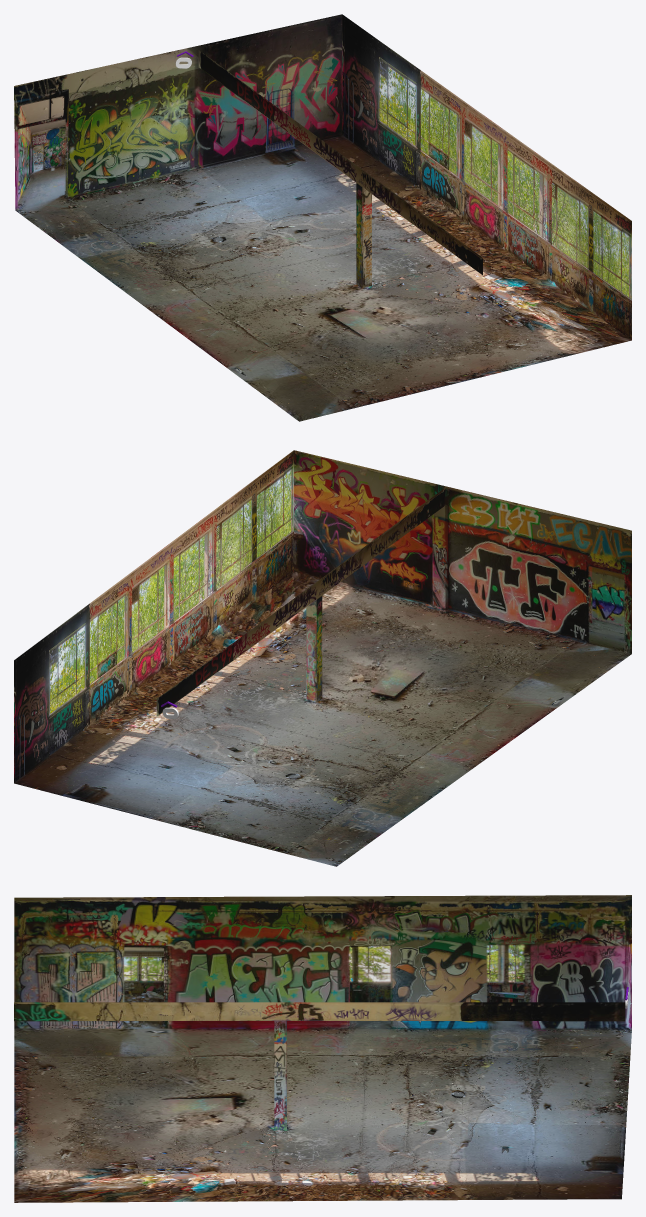
Rendered from Abandoned.glb.
3 renders of one model, top to bottom at view 1: azimuth 30°, elevation 25°; view 2: azimuth 150°, elevation 25°; view 3: azimuth 270°, elevation 25°, orthographic. The views are drawn at different scales.
Parts seen in each view (by area): view 1: Plane; view 2: Plane; view 3: Plane.
Boxes of the visible parts, box(x1,y1,x2,y2) form: Plane: box(14, 14, 631, 421); Plane: box(14, 450, 631, 866); Plane: box(14, 895, 631, 1202).
Size of what is drawn, in the model's own units: 15.68 by 5.62 by 23.46.
Materials: 2 (2 with a texture image).
